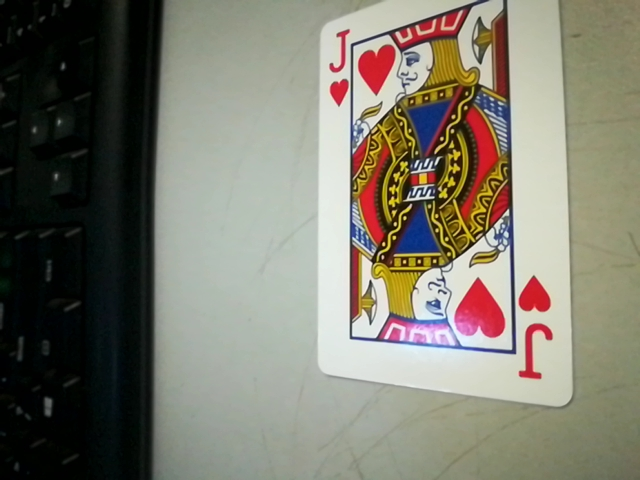hx j: (510, 270, 566, 390)
